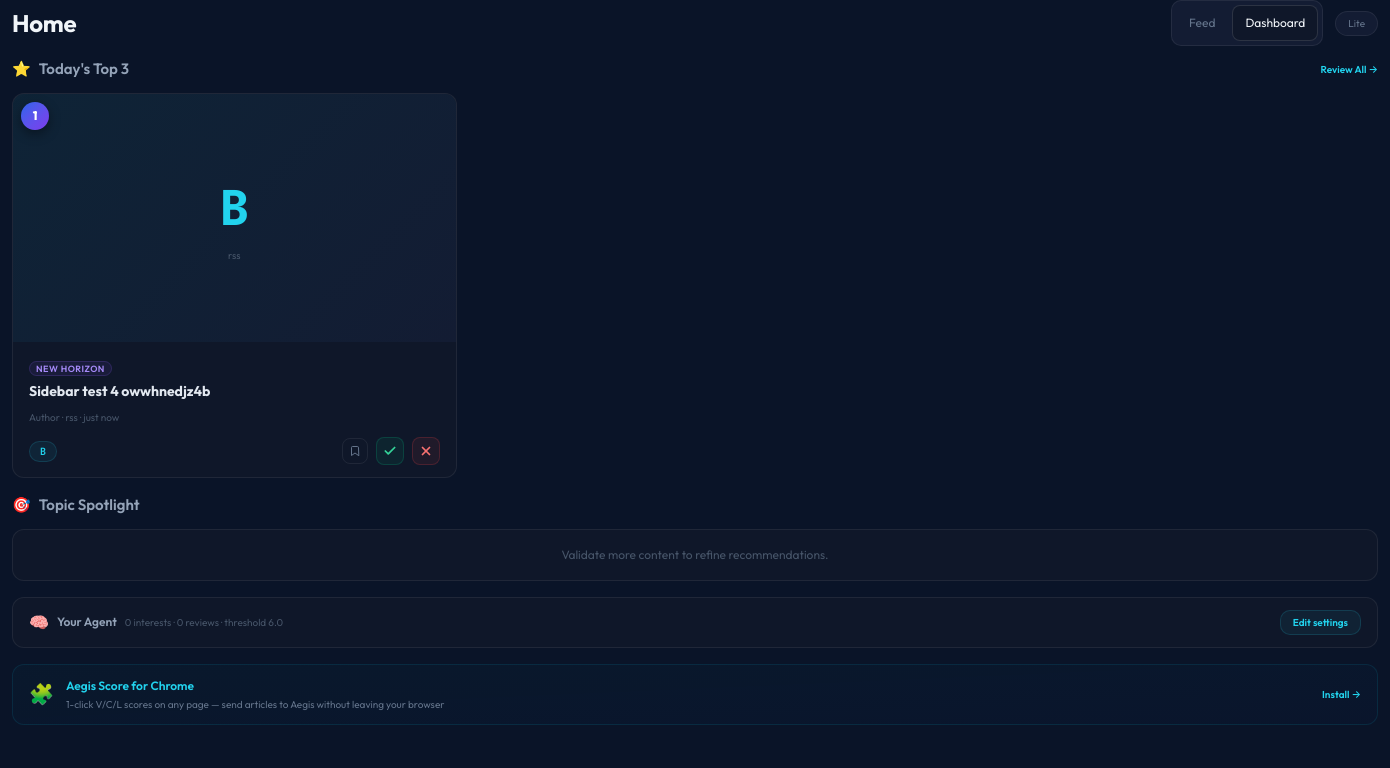
Test case: DashboardTab — Sidebar layout › sidebar reappears when switching back to feed mode
This screenshot has width=1390, height=768.
Click the button with test id "aegis-home-mode-feed" at coordinates (1202, 23), box [1176,5,1228,41]
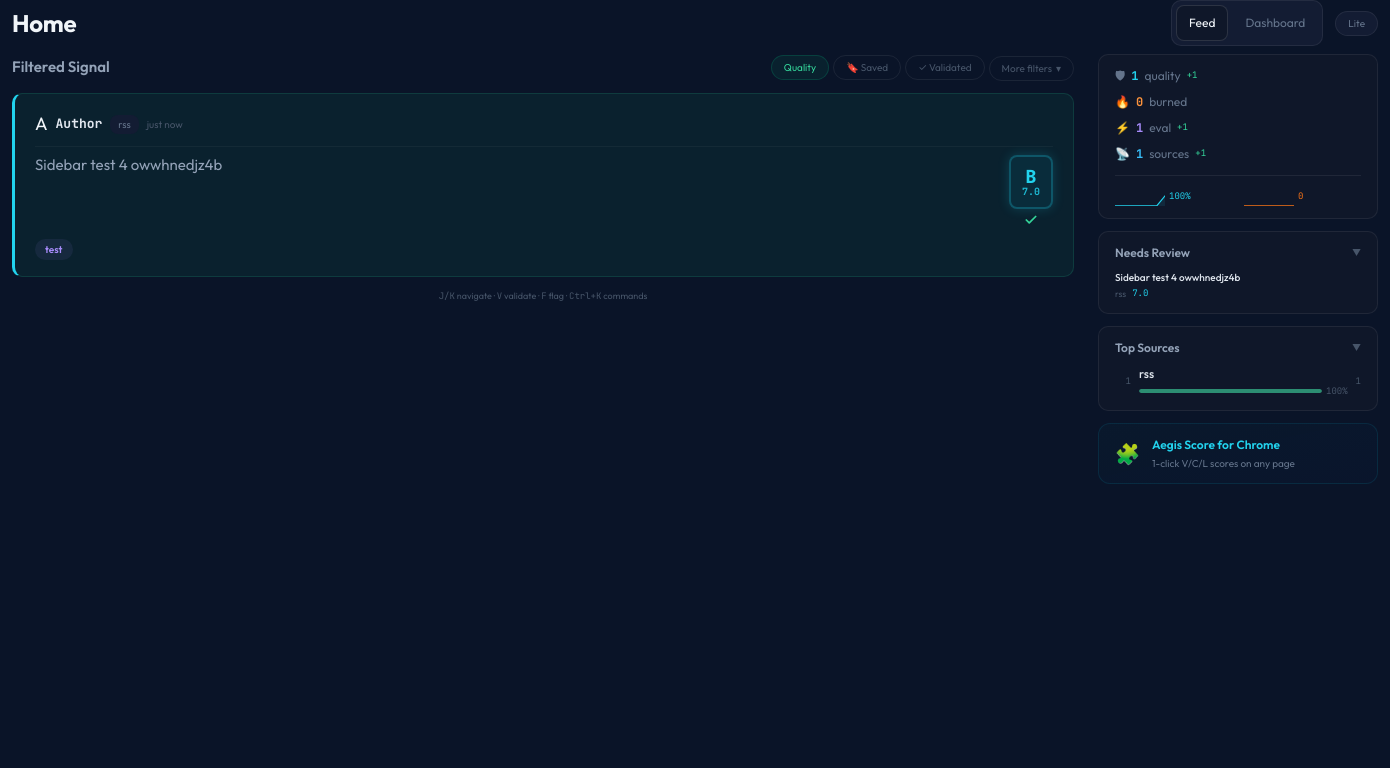
Expected: the element with test id "aegis-feed-sidebar" is shown, [1098,54,1378,484]
